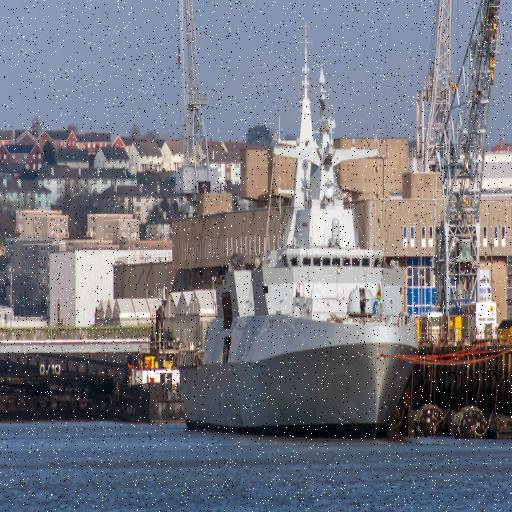Fragata: (173, 5, 426, 444)
